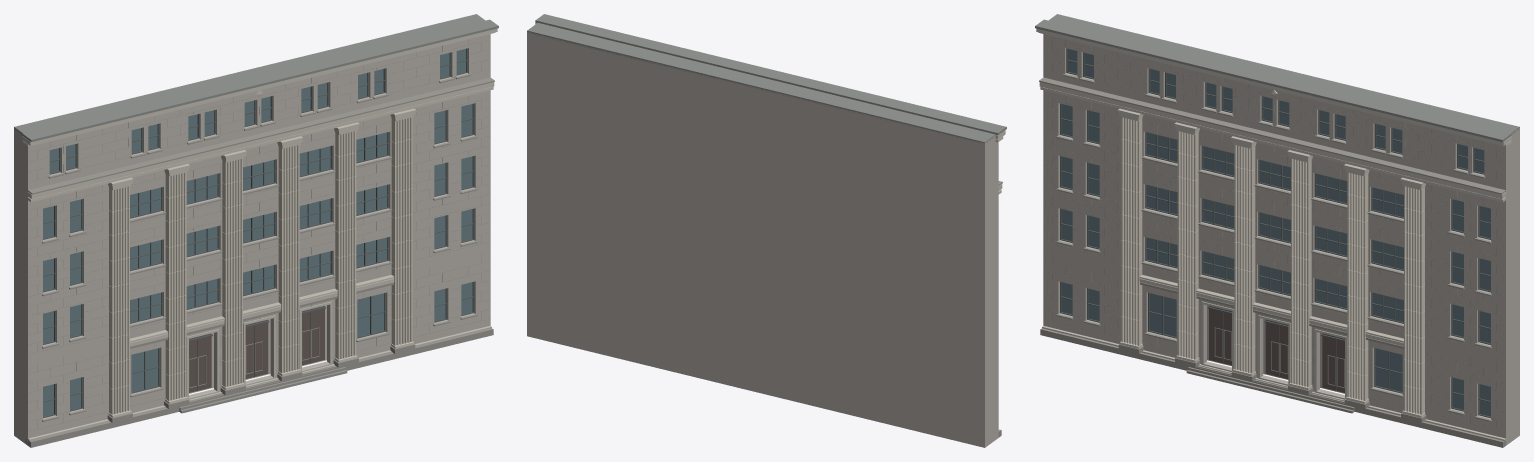
Rendered from hongkou-unrra-gray-building-north-front-raw.glb.
3 renders of one model, left to right at view 1: azimuth 30°, elevation 25°; view 2: azimuth 150°, elevation 25°; view 3: azimuth 330°, elevation 25°, orthographic.
Parts seen in each view (by area): view 1: 黄浦路106号联合国大厦灰楼北立面; view 2: 黄浦路106号联合国大厦灰楼北立面; view 3: 黄浦路106号联合国大厦灰楼北立面.
Part boxes in pixels (left/top/right/bottom): 黄浦路106号联合国大厦灰楼北立面: left=14, top=14, right=498, bottom=447; 黄浦路106号联合国大厦灰楼北立面: left=527, top=14, right=1006, bottom=447; 黄浦路106号联合国大厦灰楼北立面: left=1035, top=14, right=1519, bottom=447.
Size of the model in its own units: 39.7 by 25.21 by 2.89.
